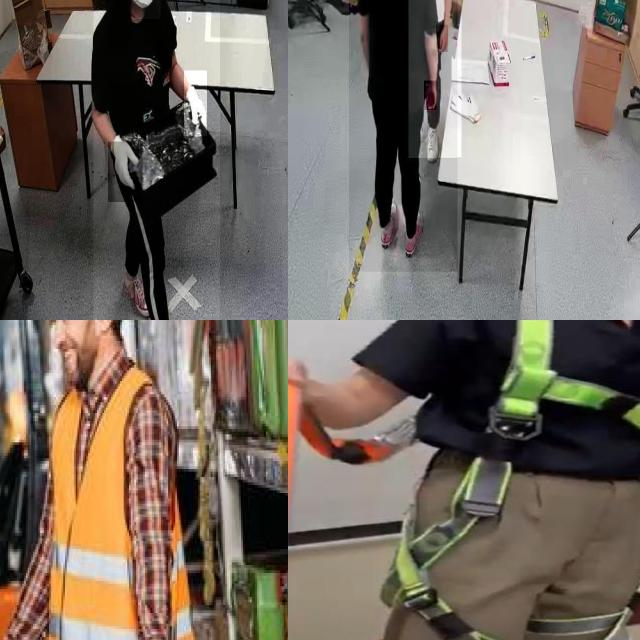Harness: (385, 320, 640, 640)
No_Ear-Protection: (89, 320, 118, 340)
No_Glasses: (50, 320, 77, 335)
face_mask: (131, 0, 160, 18)
hand_glove: (108, 141, 143, 203), (184, 70, 207, 136)
hand_noglove: (424, 80, 437, 110), (436, 25, 448, 53)
person: (93, 0, 220, 320), (349, 0, 458, 272), (408, 0, 461, 158)
shoes: (120, 262, 152, 316), (377, 196, 400, 252), (401, 206, 425, 259), (424, 125, 441, 167)
